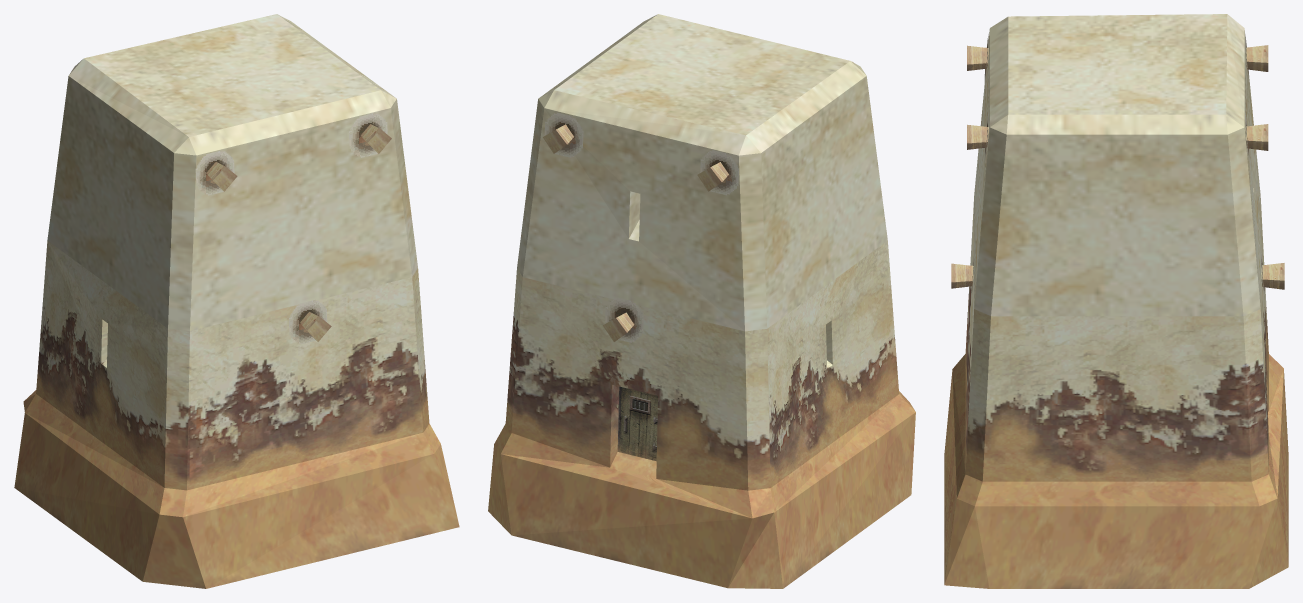
File: C2SMCITY6H.obj
3 views of the same model, side by side, from view 1: azimuth 30°, elevation 25°; view 2: azimuth 150°, elevation 25°; view 3: azimuth 270°, elevation 25° (orthographic). The views are drawn at different scales.
Parts seen in each view (by area): view 1: Node 0; view 2: Node 0; view 3: Node 0.
Part boxes in pixels (x1,y1,x2,y2): Node 0: [14, 14, 459, 588]; Node 0: [488, 14, 915, 588]; Node 0: [944, 14, 1288, 588].
Bounding box in the file's own units: 9.72 × 13.23 × 9.21.
Materials: 4 (4 with a texture image).
